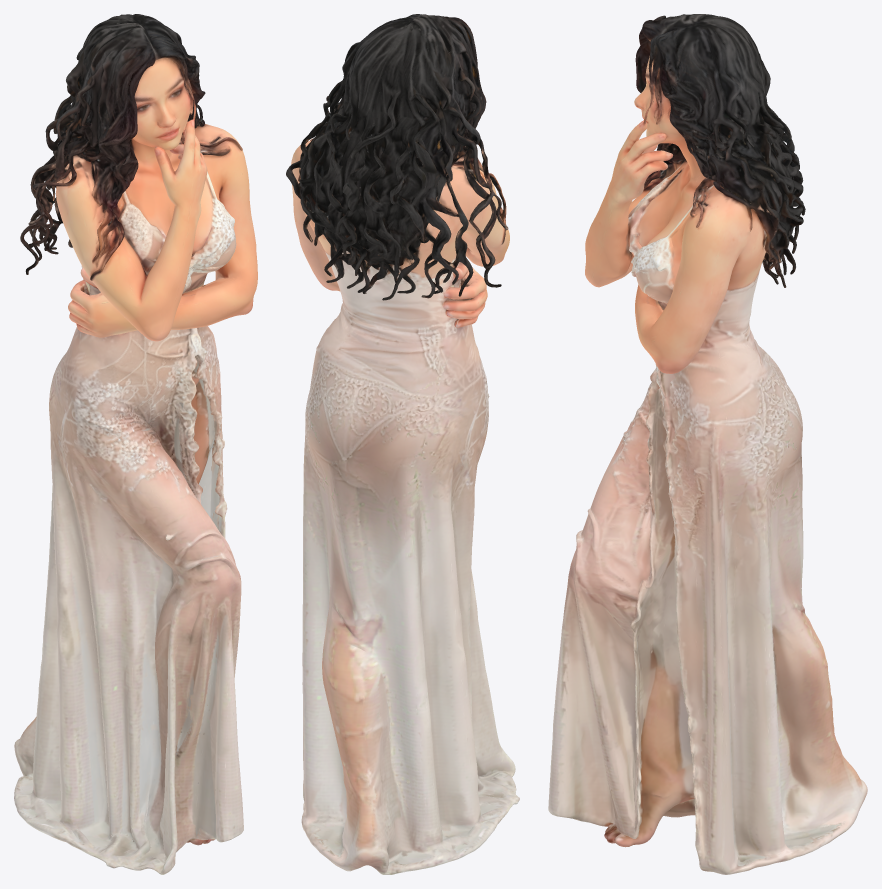
The picture shows the model from 3 angles, left to right: view 1: azimuth 30°, elevation 25°; view 2: azimuth 150°, elevation 25°; view 3: azimuth 270°, elevation 25°; orthographic projection.
Parts seen in each view (by area): view 1: Mesh_0_modddif_material_0_0 (×2); view 2: Mesh_0_modddif_material_0_0 (×2); view 3: Mesh_0_modddif_material_0_0 (×2).
Boxes of the visible parts, x1,y1,x2,y2 form: Mesh_0_modddif_material_0_0 (×2): (14, 14, 257, 874); Mesh_0_modddif_material_0_0 (×2): (286, 14, 519, 874); Mesh_0_modddif_material_0_0 (×2): (548, 14, 867, 874).
Bounding box in the file's own units: 0.2813 × 1 × 0.3564.
1 material, 1 textured.
